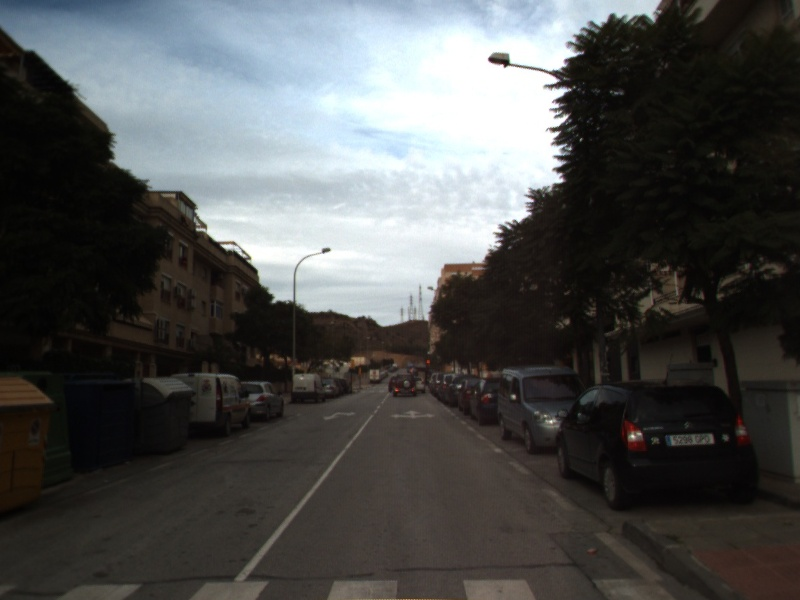STRAIGHT_LEFT_RIGHT: (389, 408, 437, 421)
